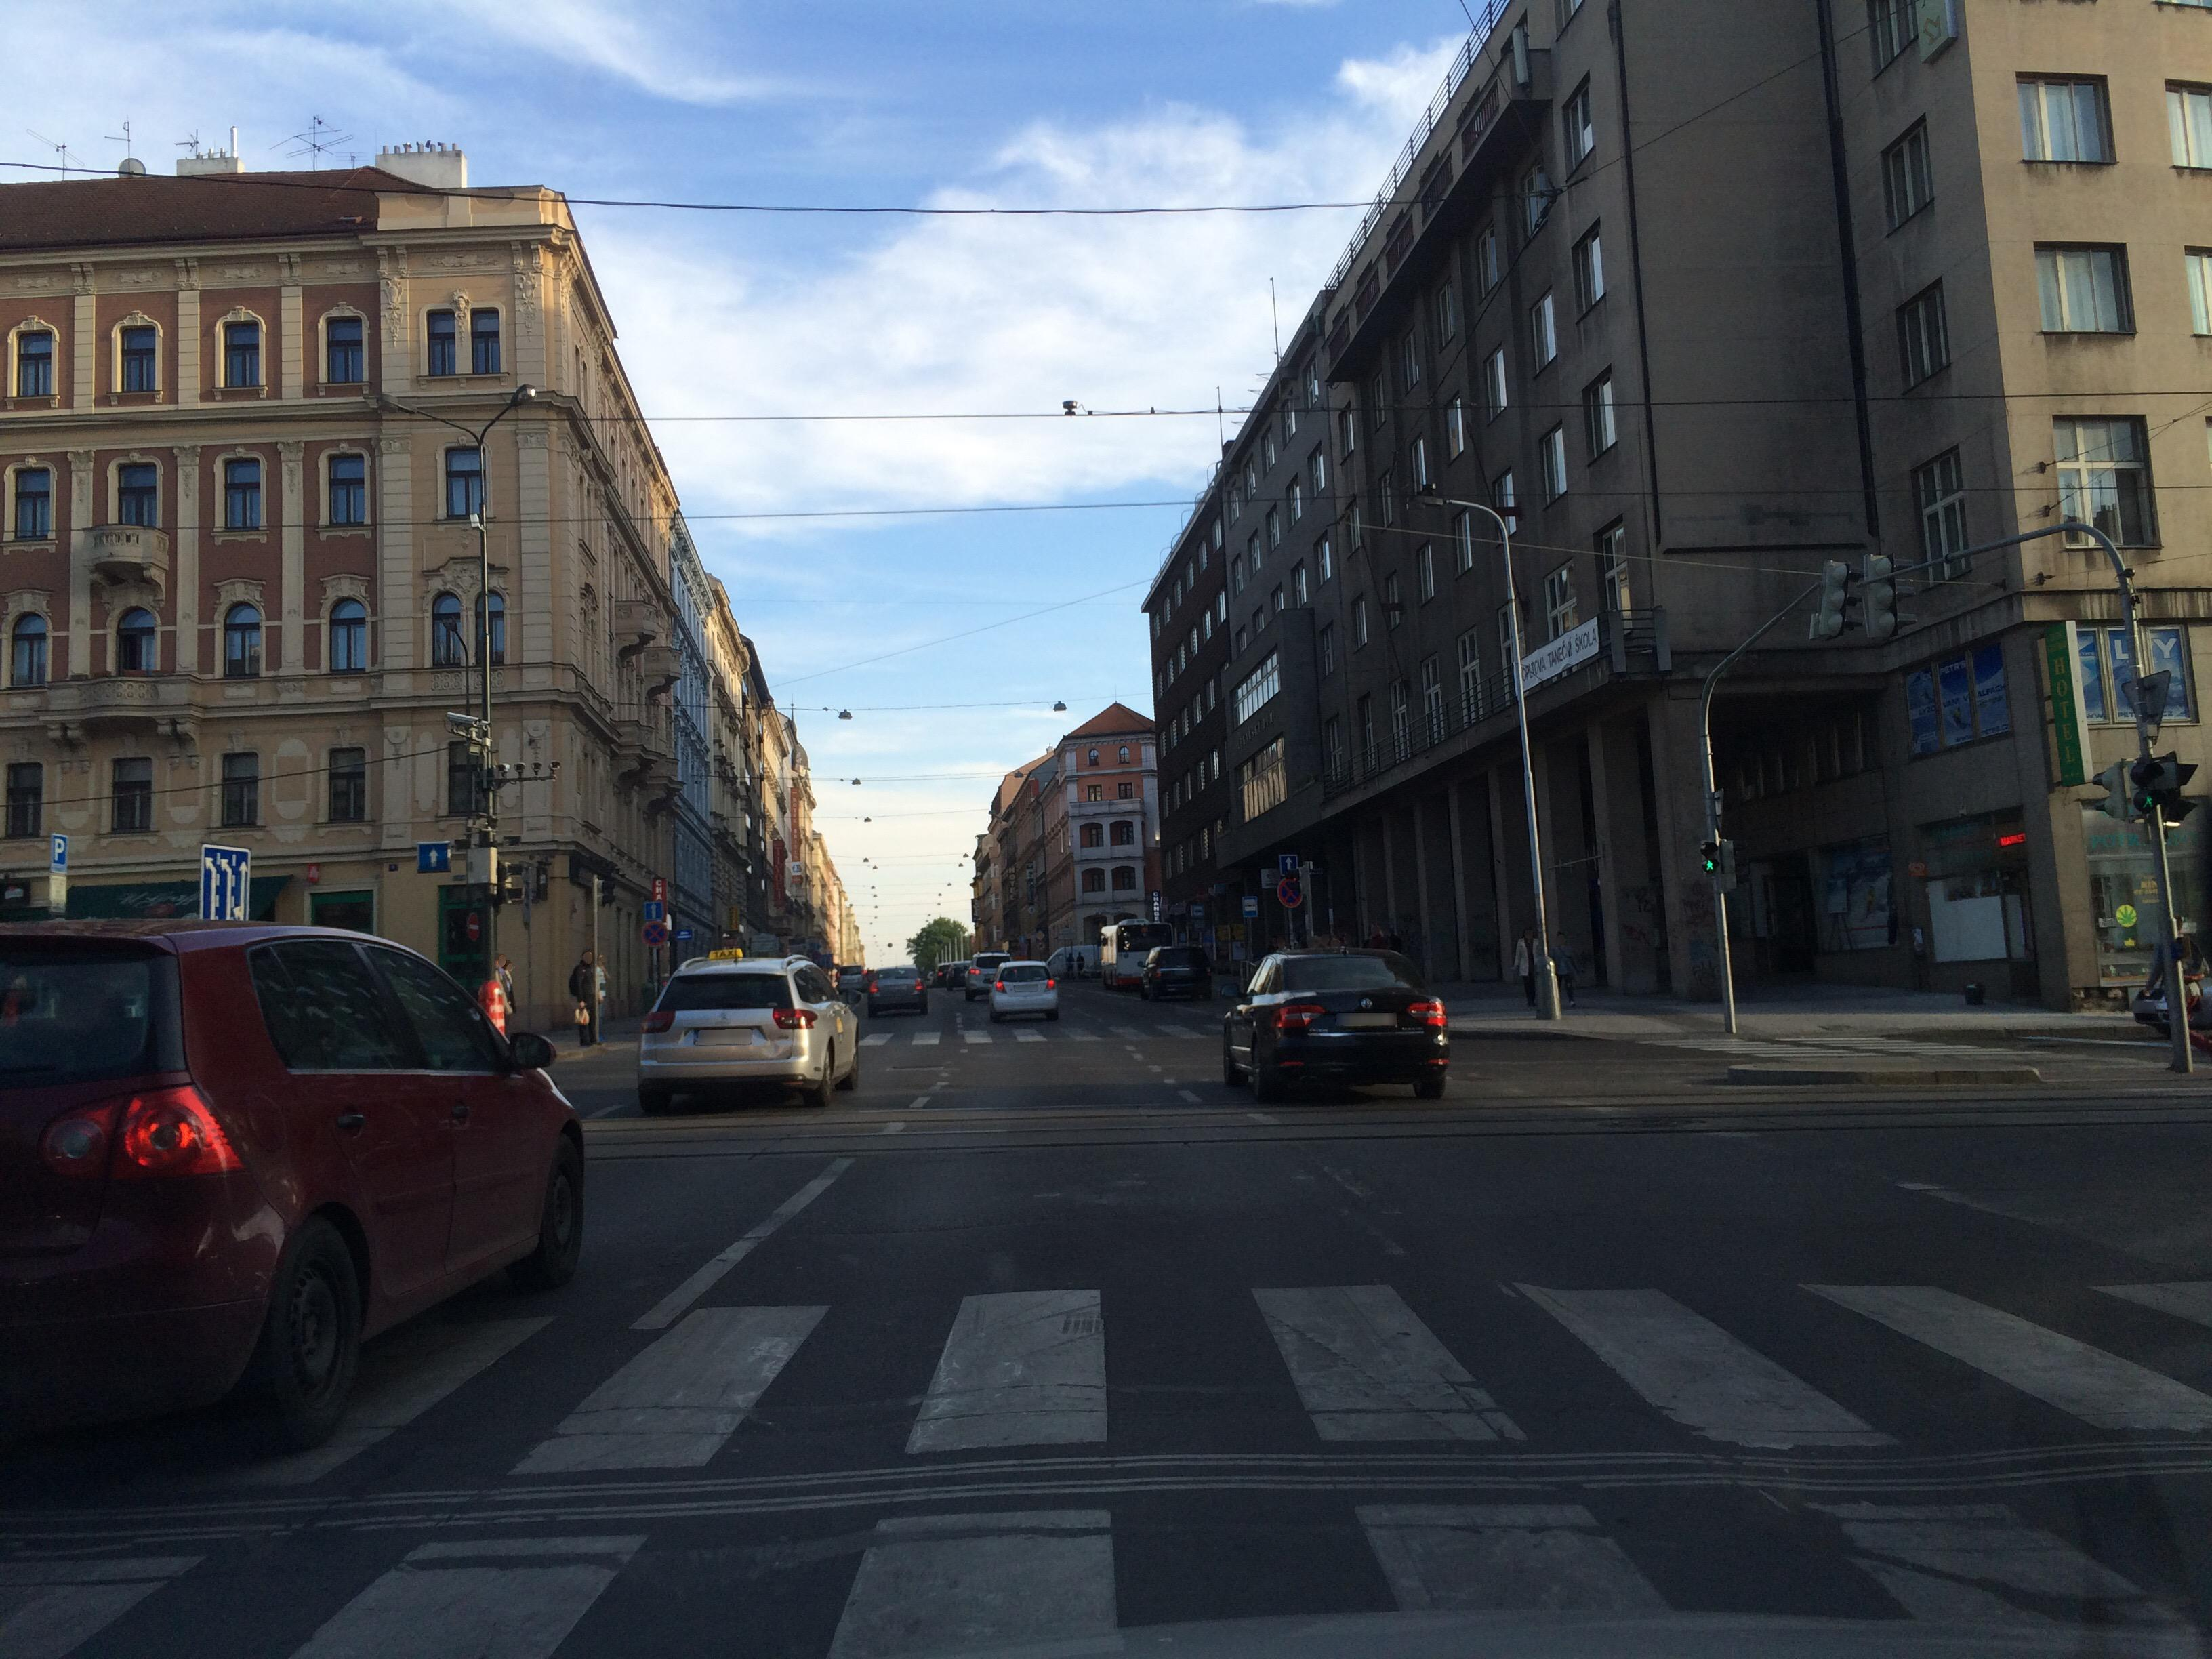vinyl banner: (1486, 610, 1615, 683)
